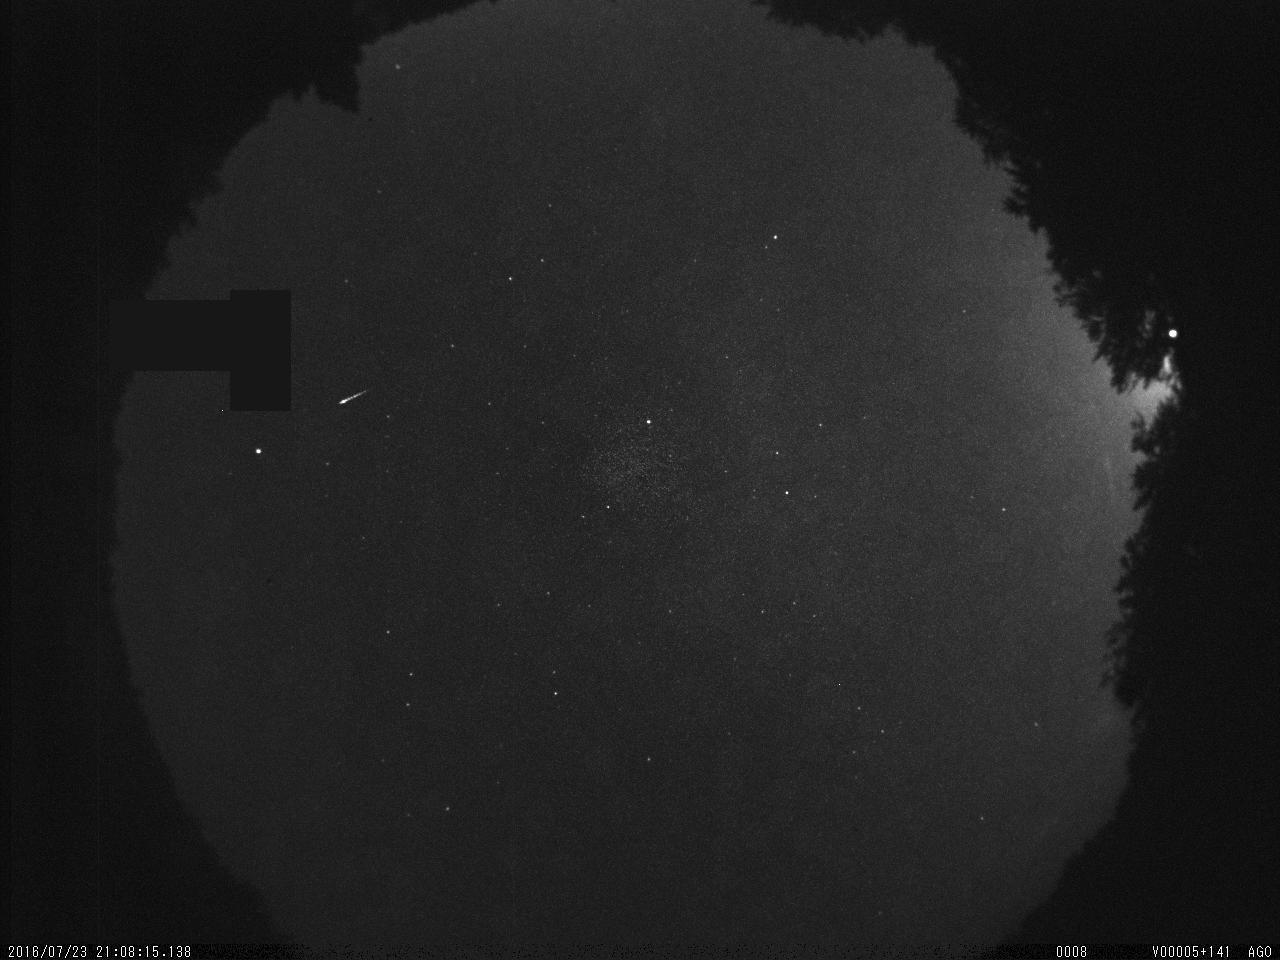meteor: (321, 373, 399, 422)
